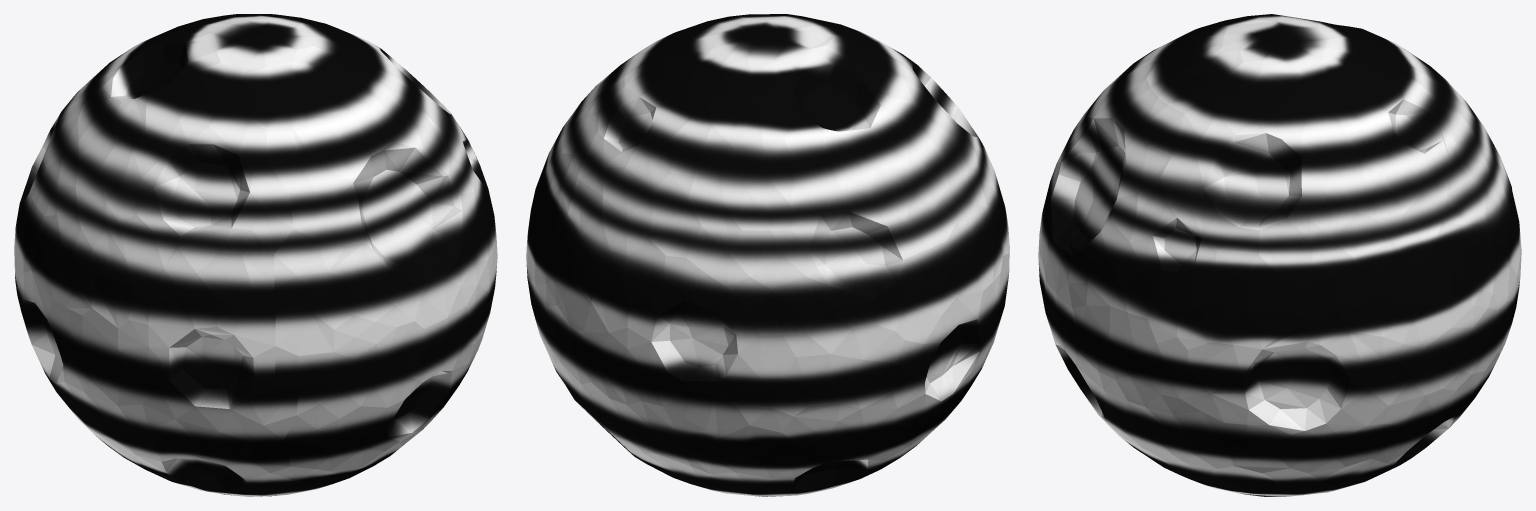
Rendered from SM_Env_Asteroid_Round_06.fbx.
The picture shows the model from 3 angles, left to right: view 1: azimuth 30°, elevation 25°; view 2: azimuth 150°, elevation 25°; view 3: azimuth 270°, elevation 25°; orthographic projection.
Parts seen in each view (by area): view 1: SM_Env_Asteroid_Round_06_LOD0; view 2: SM_Env_Asteroid_Round_06_LOD0; view 3: SM_Env_Asteroid_Round_06_LOD0.
Boxes of the visible parts, x1=… form: SM_Env_Asteroid_Round_06_LOD0: x1=14, y1=14, x2=497, y2=496; SM_Env_Asteroid_Round_06_LOD0: x1=526, y1=14, x2=1009, y2=496; SM_Env_Asteroid_Round_06_LOD0: x1=1038, y1=14, x2=1521, y2=496.
Bounding box in the file's own units: 24894 × 24833 × 24834.
Materials: 1 (1 with a texture image).
